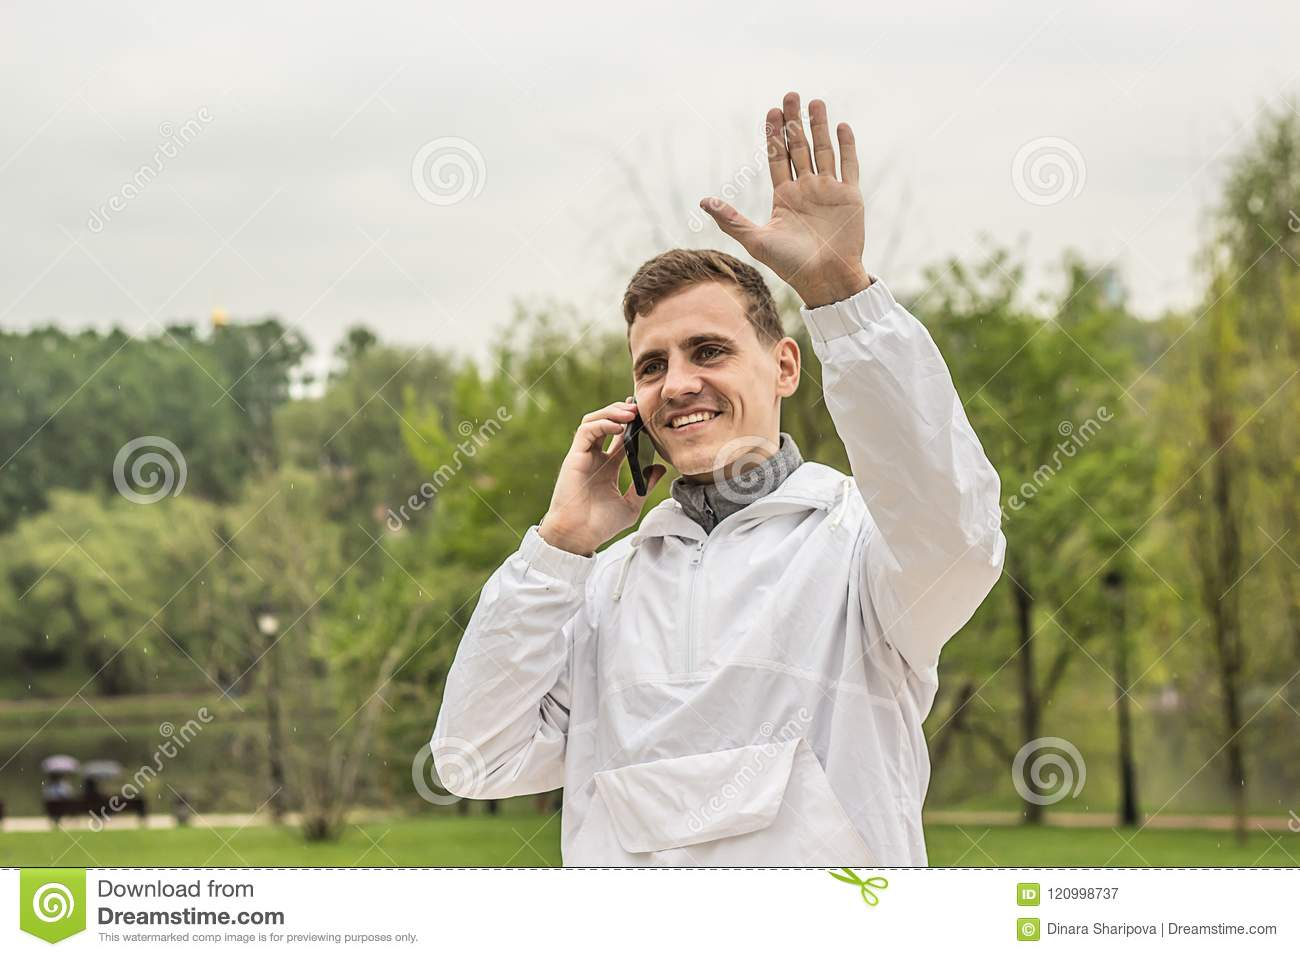phone: (615, 405, 672, 511)
talk: (555, 331, 763, 538)
